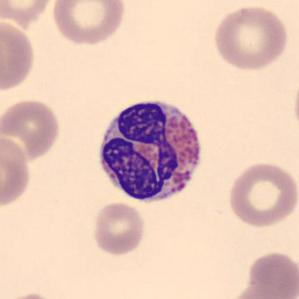Eosinophil: (92, 92, 209, 209)
RBC: (210, 3, 291, 72), (226, 160, 298, 229), (0, 96, 62, 163), (49, 0, 128, 47), (90, 200, 147, 257), (0, 17, 37, 92), (244, 248, 298, 299), (0, 132, 32, 210), (0, 0, 57, 26), (225, 283, 294, 299), (291, 71, 299, 140), (1, 290, 60, 299)
